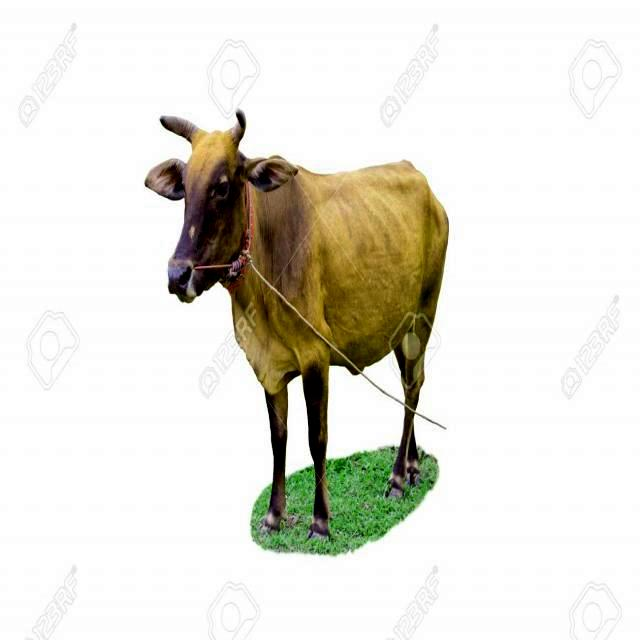COW: (145, 111, 449, 537)
